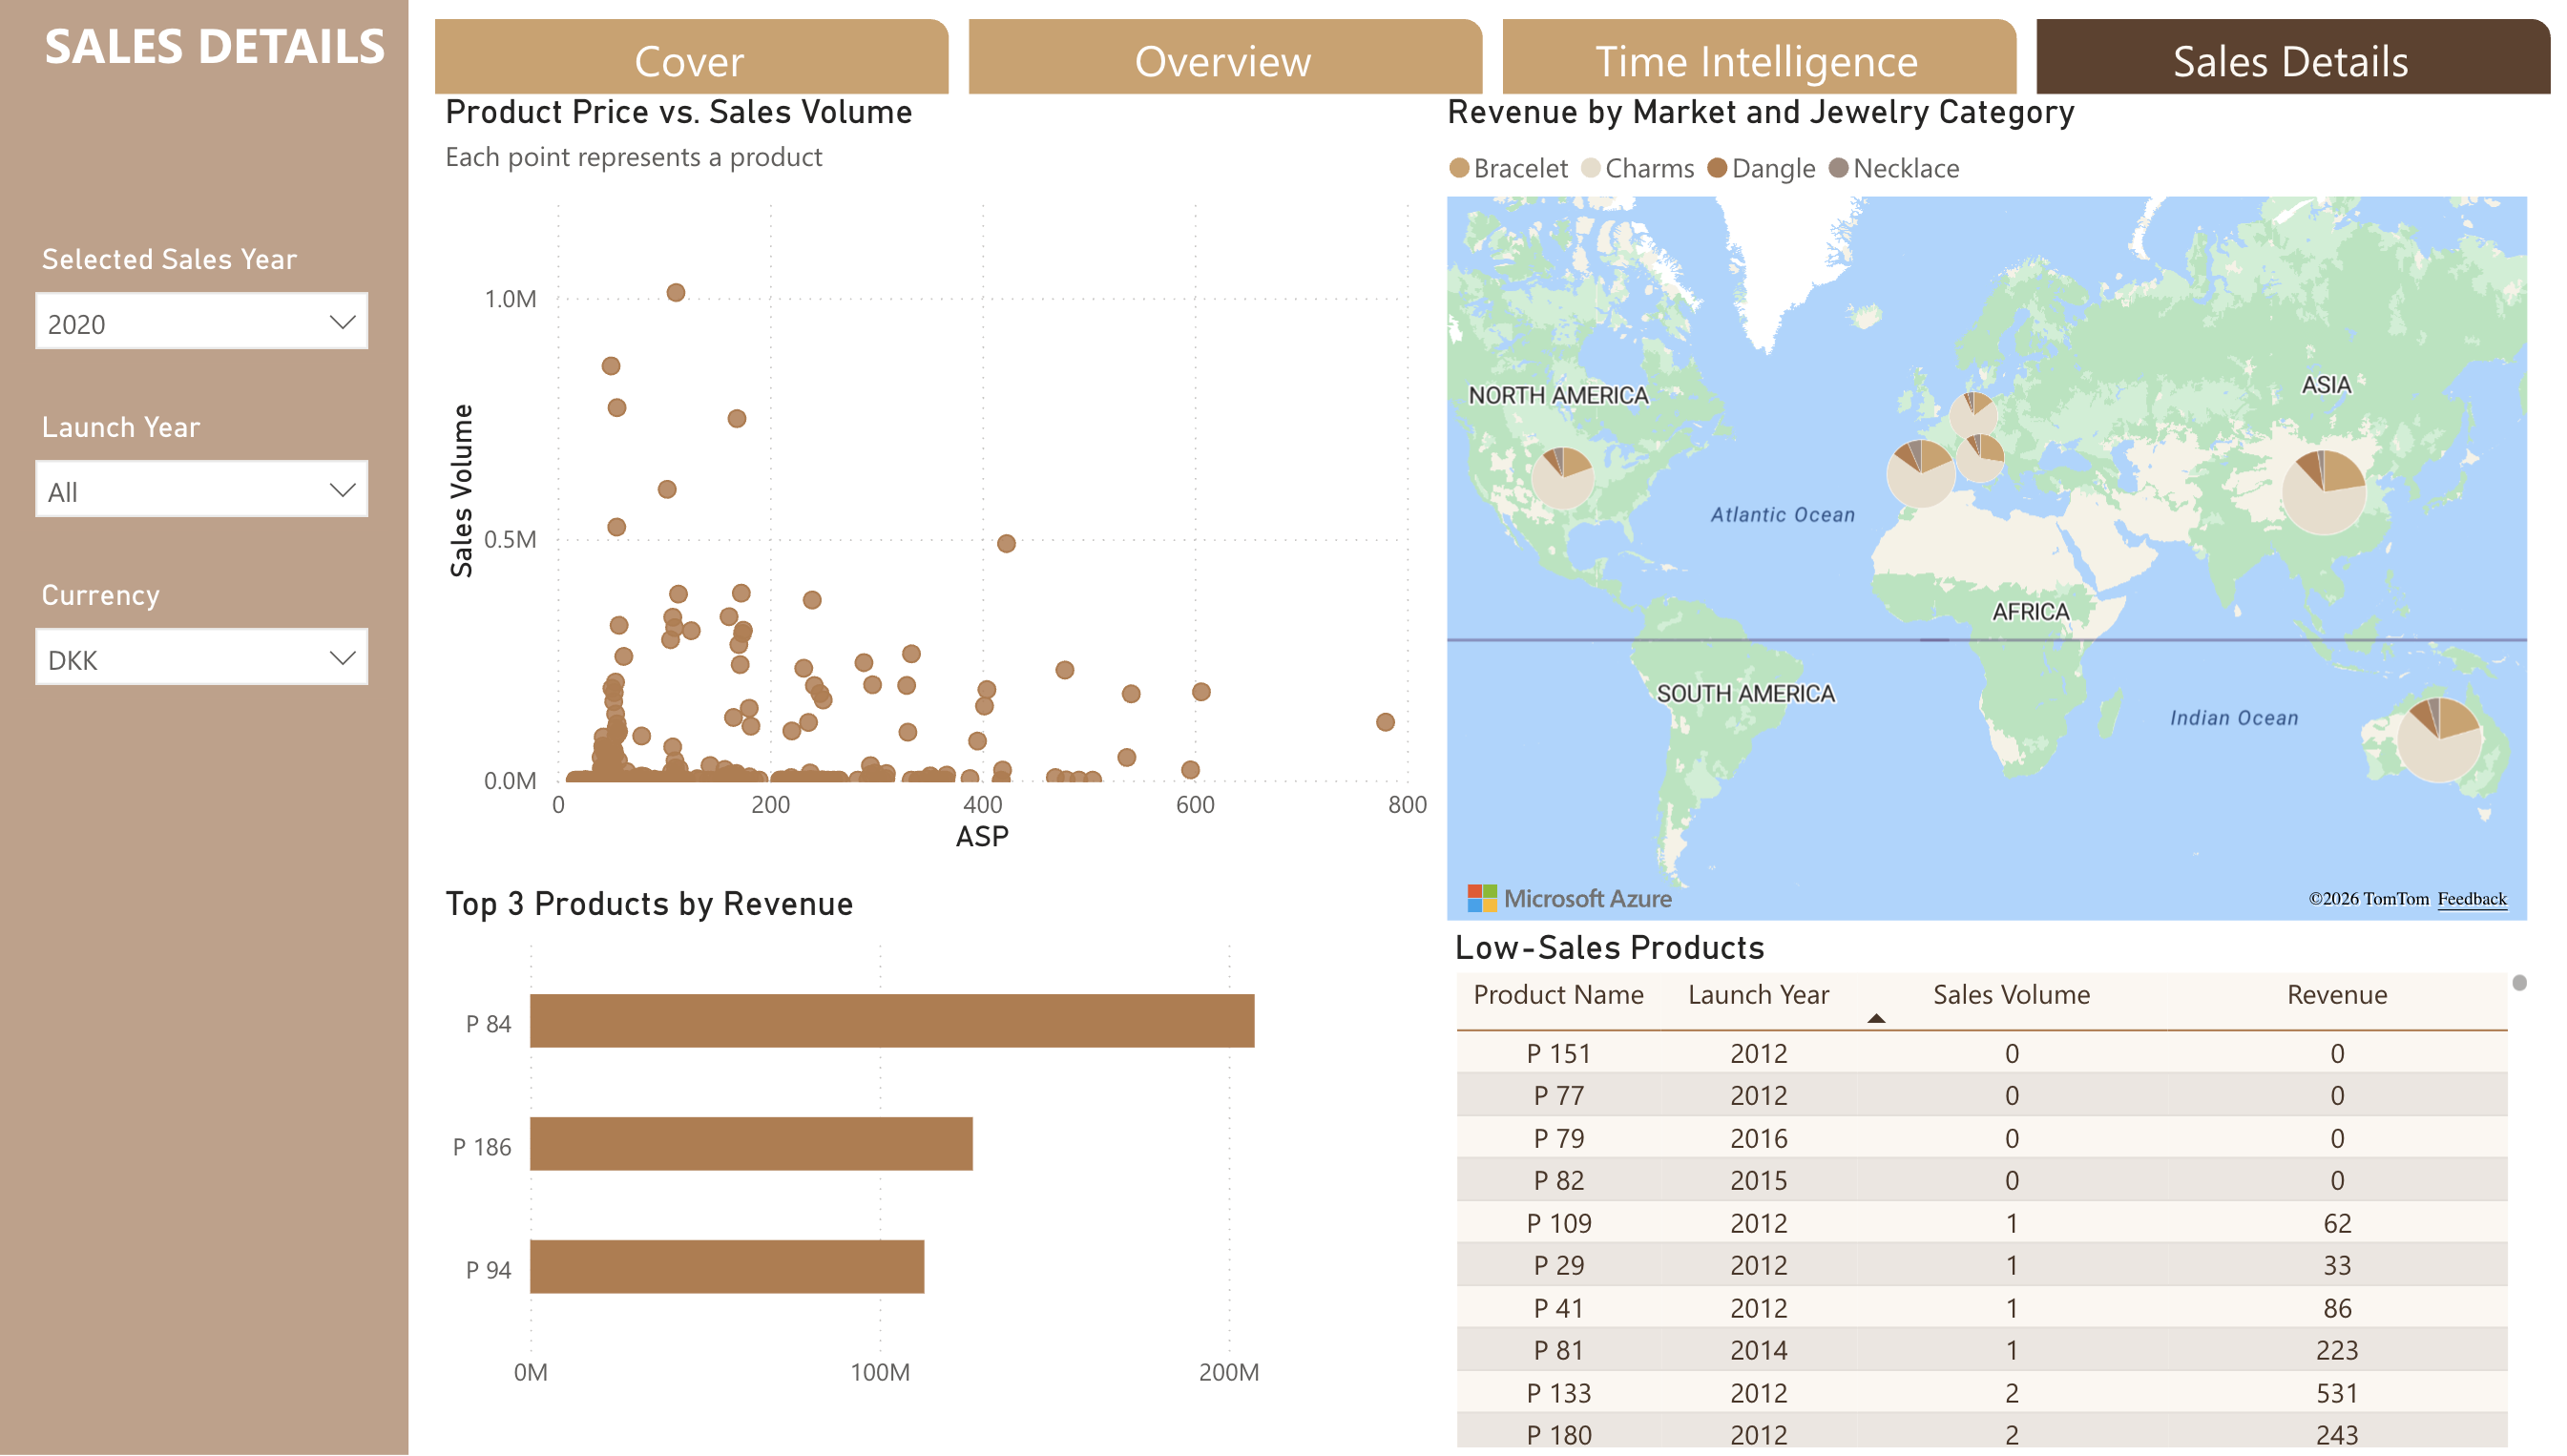

What the dashboard file says about the page in this screenshot:
{"tool":"powerbi","page":{"name":"Sales Details","canvas":[1280,720],"ordinal":3},"visuals":[{"type":"shape","box":[0,0,202.1,719.4],"z":0},{"type":"textbox","box":[16.7,0,234.3,47.6],"z":1000},{"type":"slicer","title":"Selected Sales Year","fields":{"Values":["DimDate.Year"]},"box":[7.9,116.2,184.7,63.3],"z":2000},{"type":"slicer","title":"Selected Sales Year","fields":{"Values":["DimProduct.Launch Year"]},"box":[7.7,198.7,184.7,63.3],"z":3000},{"type":"slicer","title":"Selected Sales Year","fields":{"Values":["DimCurrency.Currency"]},"box":[7.7,281.9,184.7,63.3],"z":4000},{"type":"scatterChart","title":"Product Price vs. Sales Volume","fields":{"X":["FactSalesOverview.ASP"],"Y":["FactSalesOverview.TotalSalesQty"],"Category":["DimProduct.Product Name"]},"box":[215.2,47.5,495.5,379.1],"z":5000},{"type":"map","title":"Revenue by Market and Jewelry Category","fields":{"Size":["FactSalesOverview.TotalSales"],"Category":["DimBusinessLine.Country"],"Series":["DimProduct.SubCategory"]},"box":[710.7,47.5,544.3,412.9],"z":6000},{"type":"clusteredBarChart","title":"Top 3 Products by Revenue","fields":{"Y":["FactSalesOverview.TotalSales"],"Category":["DimProduct.Product Name"]},"box":[215.2,439.2,499.6,258.1],"z":7000},{"type":"pageNavigator","box":[215.5,9.1,1048.8,37.9],"z":8000},{"type":"tableEx","title":"Low-Sales Products","fields":{"Values":["DimProduct.Product Name","DimProduct.Launch Year","FactSalesOverview.TotalSalesQty","FactSalesOverview.TotalSales"]},"box":[714.5,460.5,541.1,260.2],"z":9000}]}

Visuals, with their boxes in screenshot pixels (x1, y1, x2, y2), scaled from the page's 1280x720 canvas onto the 2567x1456 screenshot:
shape: 0,0,406,1455
textbox: 33,0,503,96
"Selected Sales Year" slicer: 16,235,386,363
"Selected Sales Year" slicer: 15,402,386,530
"Selected Sales Year" slicer: 15,570,386,698
"Product Price vs. Sales Volume" scatterChart: 431,96,1426,863
"Revenue by Market and Jewelry Category" map: 1426,96,2516,931
"Top 3 Products by Revenue" clusteredBarChart: 431,888,1433,1410
pageNavigator: 432,18,2536,95
"Low-Sales Products" tableEx: 1433,931,2518,1455
